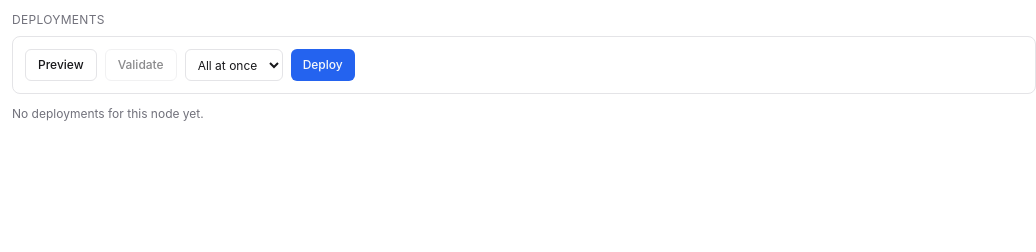
Test case: the flow › shows the conflicts a validation reports
Click the button "Preview" at (61, 65), box [25,49,97,81]
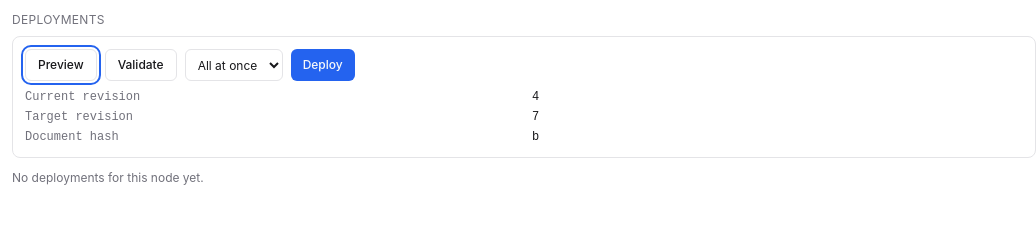
Click the button "Validate" at (141, 65), box [105,49,177,81]
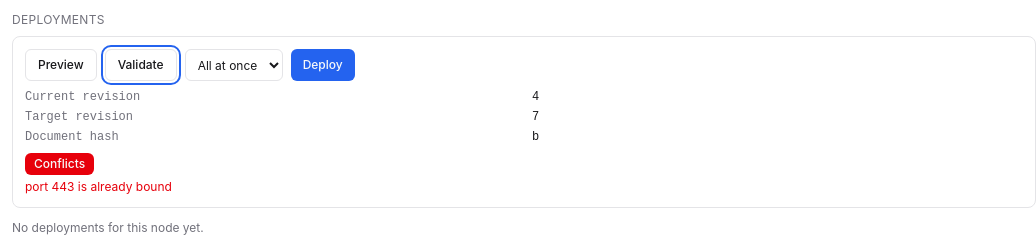
Expected: the text "port 443 is already bound" is shown, [25,179,172,194]
Expected: the text "Conflicts" is shown, [25,153,94,175]
